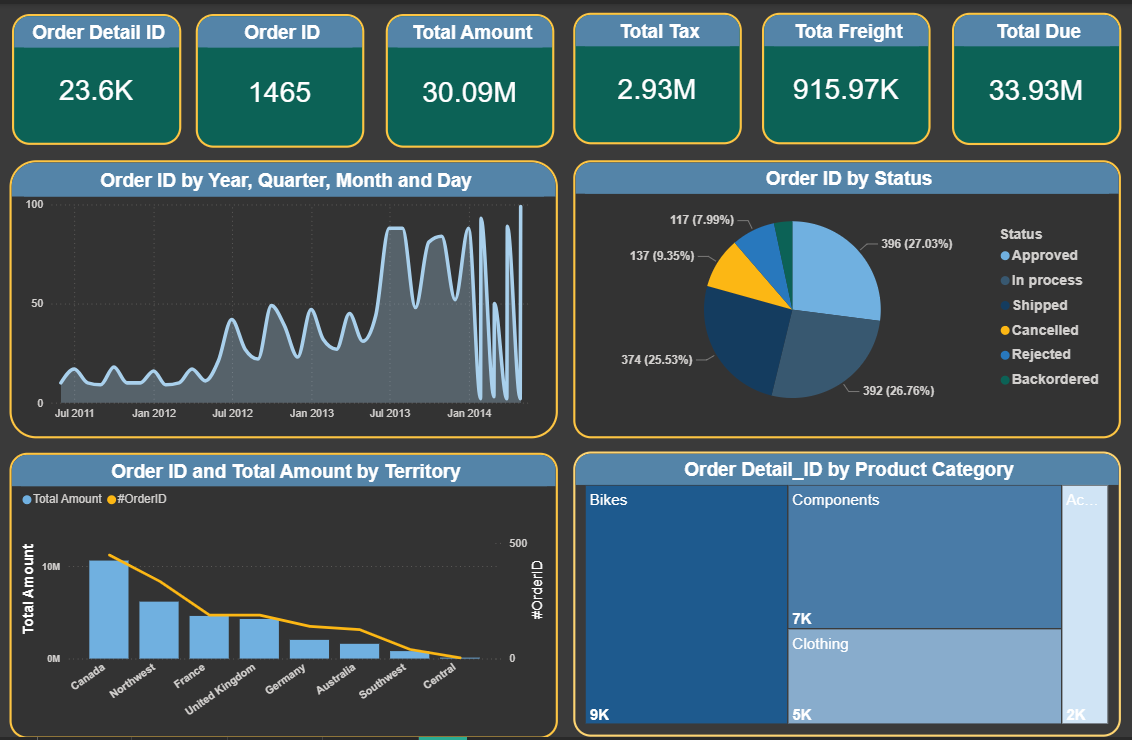

Layout of this report page (visuals, bound fields, positions):
{"tool":"powerbi","page":{"name":"Page 1","canvas":[1280,825],"ordinal":0},"visuals":[{"type":"card","title":"Order Detail ID","fields":{"Values":["Sales.#OrderDetail_ID"]},"box":[17.1,11.4,190,147.1],"z":0},{"type":"card","title":"Order ID","fields":{"Values":["Sales.#OrderID"]},"box":[223.7,11.3,189.5,150.2],"z":1000},{"type":"card","title":"Total Amount","fields":{"Values":["Sales.Total Amount"]},"box":[436.7,11.3,189.5,150.2],"z":2000},{"type":"card","title":"Total Tax","fields":{"Values":["Sales.Total Tax"]},"box":[647.7,10.4,189.5,147.8],"z":3000},{"type":"card","title":"Total Due","fields":{"Values":["Sales.Total Due"]},"box":[1073.7,9.7,190,148.6],"z":4000},{"type":"card","title":"Tota Freight","fields":{"Values":["Sales.Total Freight"]},"box":[860.7,10.4,189.5,147.8],"z":5000},{"type":"pieChart","title":"Order ID by Status","fields":{"Y":["Measures (2).#OrderID"],"Category":["Sales.Status"]},"box":[648,176.3,615.7,312.9],"z":6000},{"type":"lineChart","title":"Order ID by Year, Quarter, Month and Day","fields":{"Y":["Measures (2).#OrderID"],"Category":["Sales.OrderDate.Variation.Date Hierarchy.Year","Sales.OrderDate.Variation.Date Hierarchy.Quarter","Sales.OrderDate.Variation.Date Hierarchy.Month","Sales.OrderDate.Variation.Date Hierarchy.Day"]},"box":[14.3,175.7,617.1,312.9],"z":7000},{"type":"lineClusteredColumnComboChart","title":"Order ID and Total Amount by Territory","fields":{"Category":["Sales.Territory"],"Y":["Measures (2).Total Amount"],"Y2":["Measures (2).#OrderID"]},"box":[14.3,504.3,617.1,321.4],"z":8000},{"type":"treemap","title":"Order Detail_ID by Product Category","fields":{"Group":["Sales.ProductCategory","Sales.ProductSubCategory","Sales.Product"],"Values":["Measures (2).#OrderDetail_ID"]},"box":[648,504,616,321],"z":8001}]}

Visuals, with their boxes in screenshot pixels (x1, y1, x2, y2), scaled from the page's 1280x825 canvas onto the 1132x740 screenshot:
"Order Detail ID" card: 15/10/183/142
"Order ID" card: 198/10/365/145
"Total Amount" card: 386/10/554/145
"Total Tax" card: 573/9/740/142
"Total Due" card: 950/9/1118/142
"Tota Freight" card: 761/9/929/142
"Order ID by Status" pieChart: 573/158/1118/439
"Order ID by Year, Quarter, Month and Day" lineChart: 13/158/558/438
"Order ID and Total Amount by Territory" lineClusteredColumnComboChart: 13/452/558/739
"Order Detail_ID by Product Category" treemap: 573/452/1118/739
